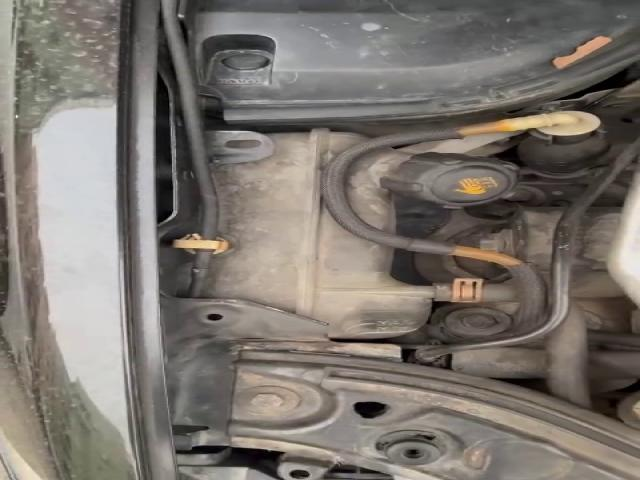antifreeze_tank: (208, 129, 431, 338), (349, 148, 519, 231)
